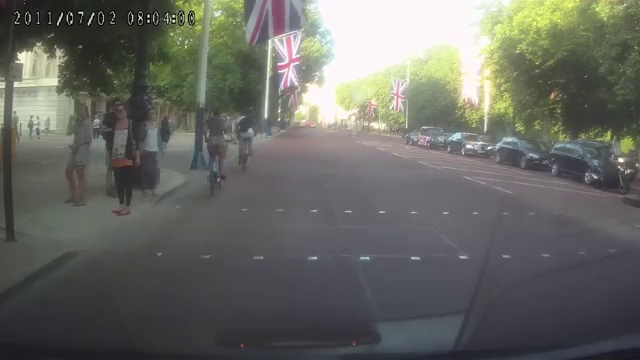cyclist_back: (201, 108, 233, 200), (235, 110, 257, 177)
